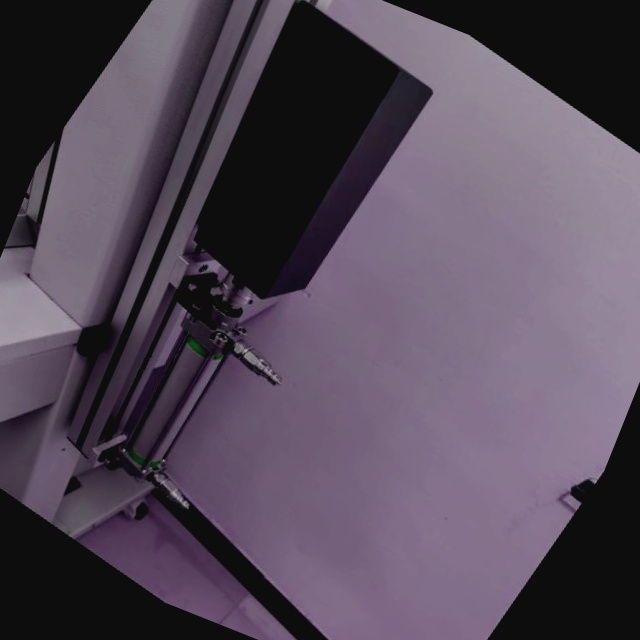load: (0, 0, 496, 570)
